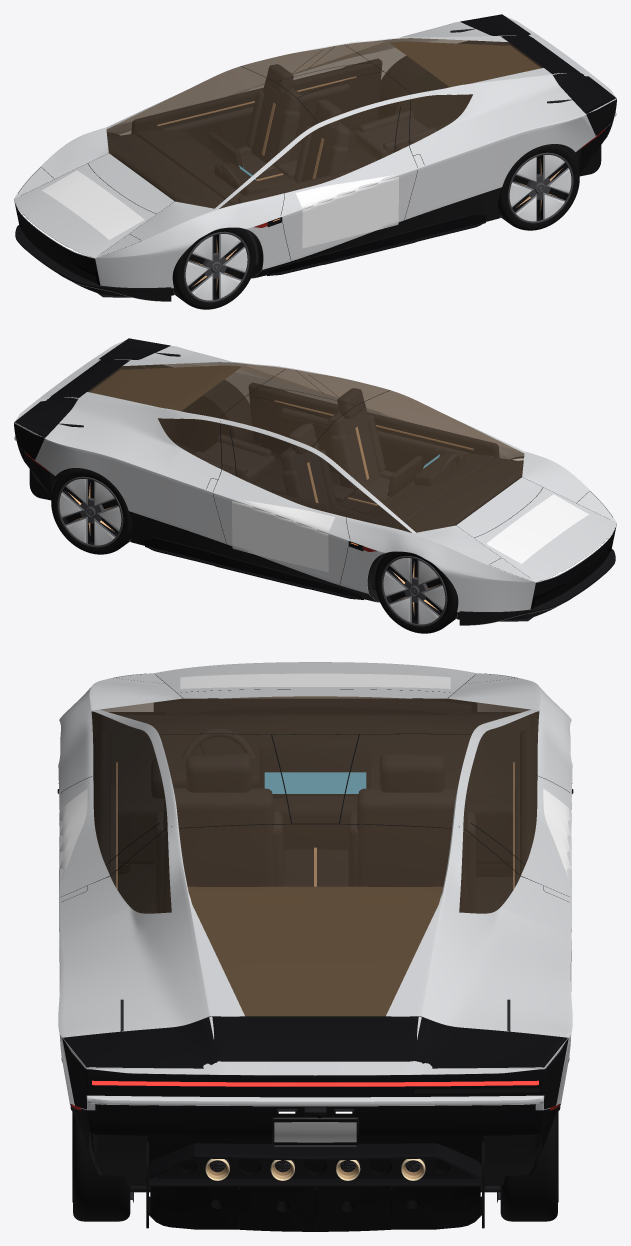
File: car_hi.raw.glb
The picture shows the model from 3 angles, top to bottom: view 1: azimuth 30°, elevation 25°; view 2: azimuth 150°, elevation 25°; view 3: azimuth 270°, elevation 25°; orthographic projection. The views are drawn at different scales.
Visible parts, largest first — view 1: Body, Decals, Thrusters, WingWell, Rim_RL, Rim_FL, Tyre_RL, Tyre_FL; view 2: Body, Decals, Thrusters, WingWell, Rim_RR, Rim_FR, Tyre_RR, Tyre_FR; view 3: Body, Thrusters, WingWell, Decals, Tyre_RL, Tyre_RR, Steering.
Part boxes in pixels (<box>): Body: <box>14,16,616,301</box>; Decals: <box>42,84,398,248</box>; Thrusters: <box>390,41,607,176</box>; WingWell: <box>460,14,616,135</box>; Rim_RL: <box>507,152,573,223</box>; Rim_FL: <box>183,231,249,302</box>; Tyre_RL: <box>498,144,579,230</box>; Tyre_FL: <box>172,227,255,309</box>; Body: <box>14,340,616,625</box>; Decals: <box>232,408,588,572</box>; Thrusters: <box>23,365,240,500</box>; WingWell: <box>14,338,170,459</box>; Rim_RR: <box>57,476,123,547</box>; Rim_FR: <box>381,555,447,626</box>; Tyre_RR: <box>51,468,132,554</box>; Tyre_FR: <box>375,551,458,633</box>; Body: <box>57,662,573,1231</box>; Thrusters: <box>89,886,541,1231</box>; WingWell: <box>62,1016,568,1109</box>; Decals: <box>59,673,571,1146</box>; Tyre_RL: <box>73,1112,130,1221</box>; Tyre_RR: <box>500,1112,557,1221</box>; Steering: <box>182,728,255,758</box>.
Bounding box in the file's own units: 5.02 × 1.34 × 2.13.
